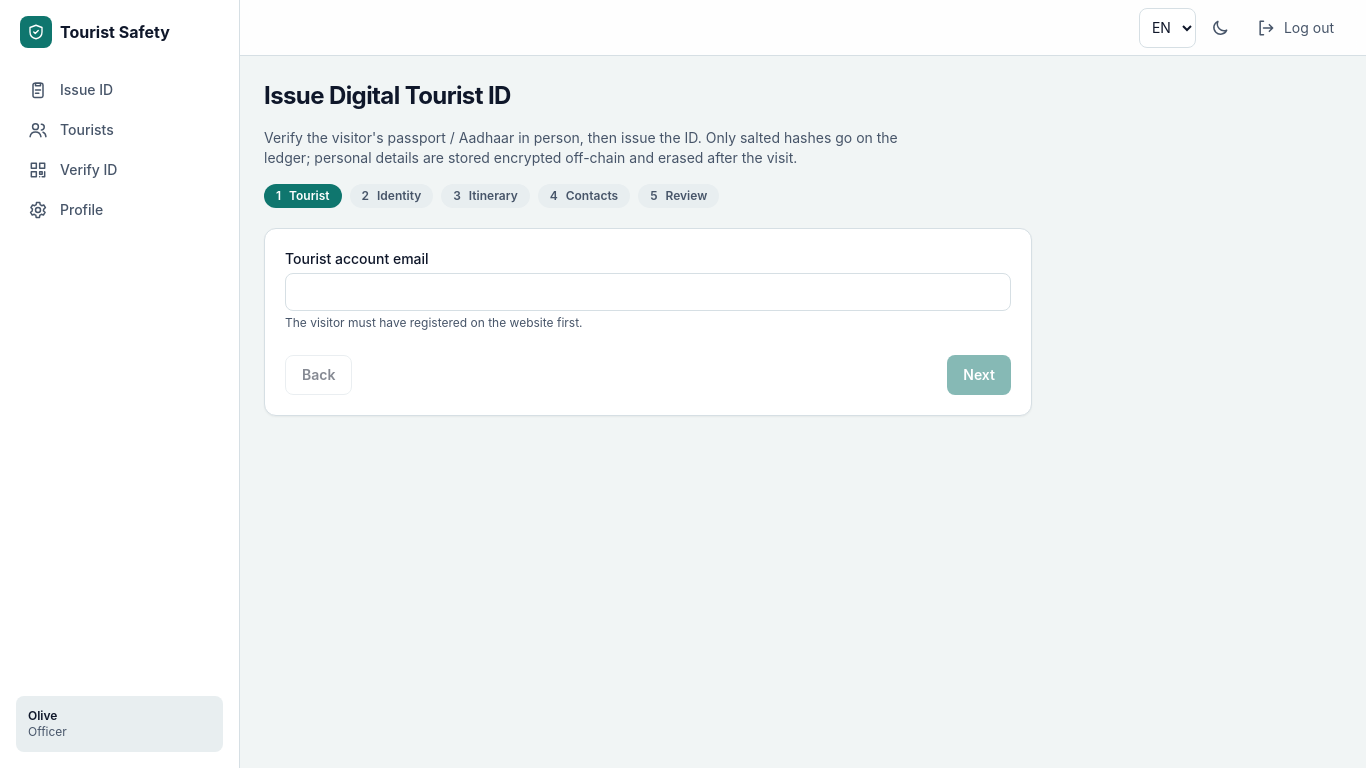
Next is disabled until each step is valid; Back keeps what was typed
Check: the button "Next" is disabled, box top-left (947, 355), bottom-right (1011, 395)
Type "t@x.com" into the field labelled "Tourist account email" at (648, 292), box top-left (285, 273), bottom-right (1011, 311)
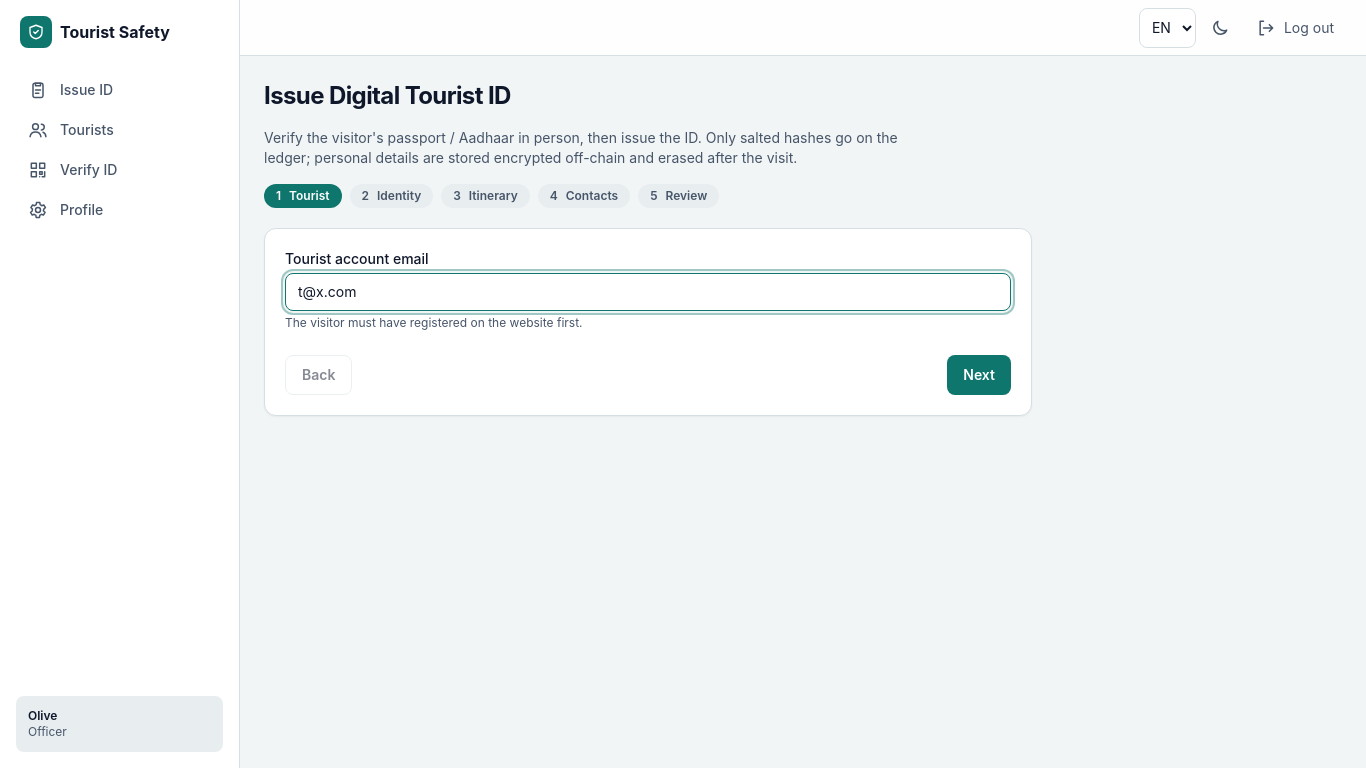
Click the button "Next" at (979, 375), box top-left (947, 355), bottom-right (1011, 395)
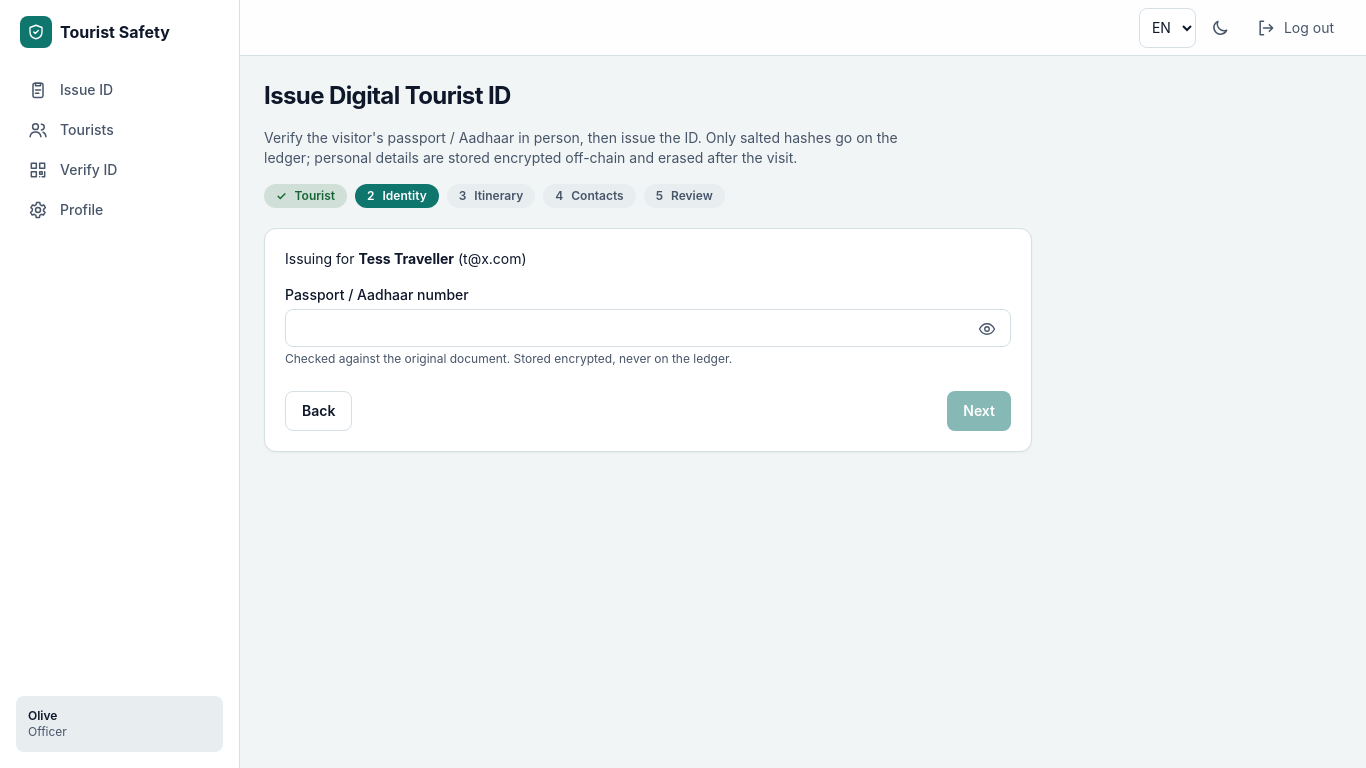
Check: the button "Next" is disabled, box top-left (947, 391), bottom-right (1011, 431)
Type "AB12" into the password field labelled "Passport / Aadhaar number" at (648, 328), box top-left (285, 309), bottom-right (1011, 347)
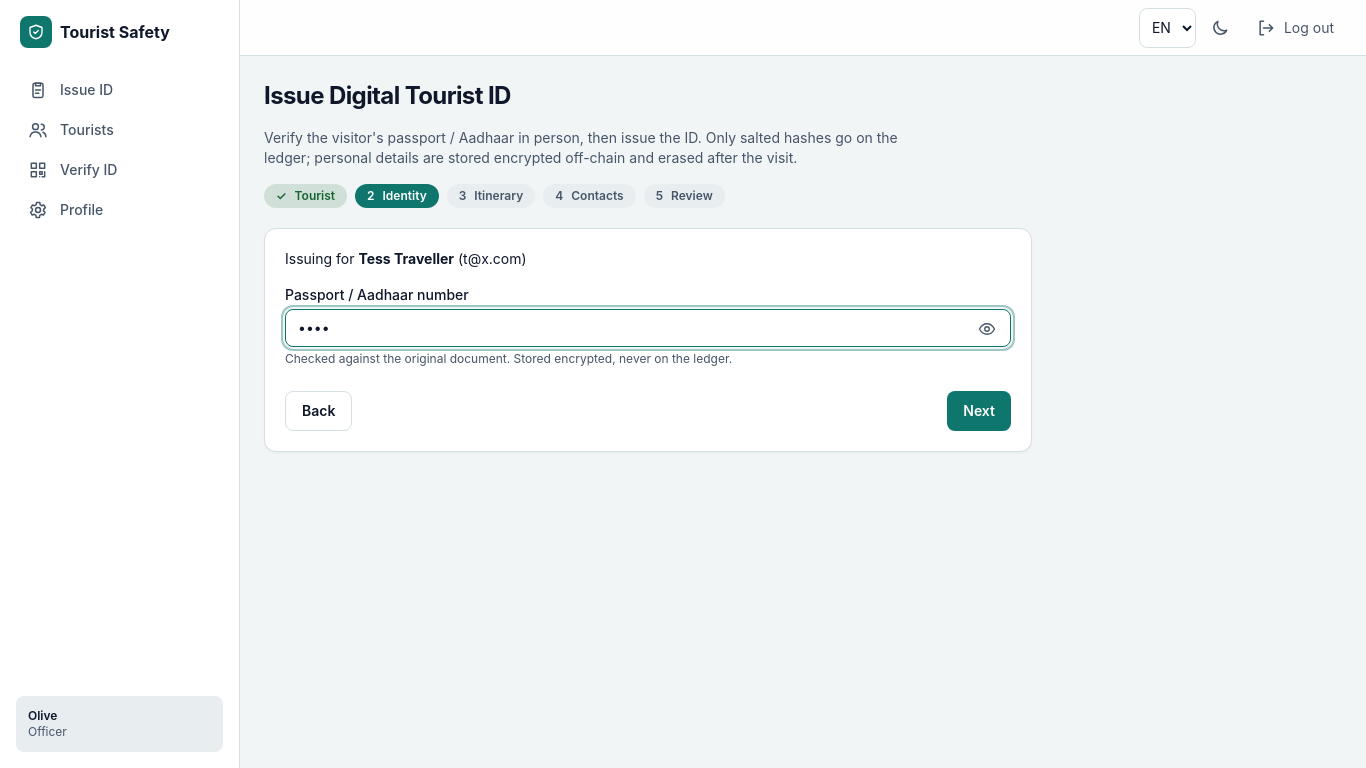
Check: the button "Next" is enabled, box top-left (947, 391), bottom-right (1011, 431)
Click the button "Back" at (319, 411), box top-left (285, 391), bottom-right (352, 431)
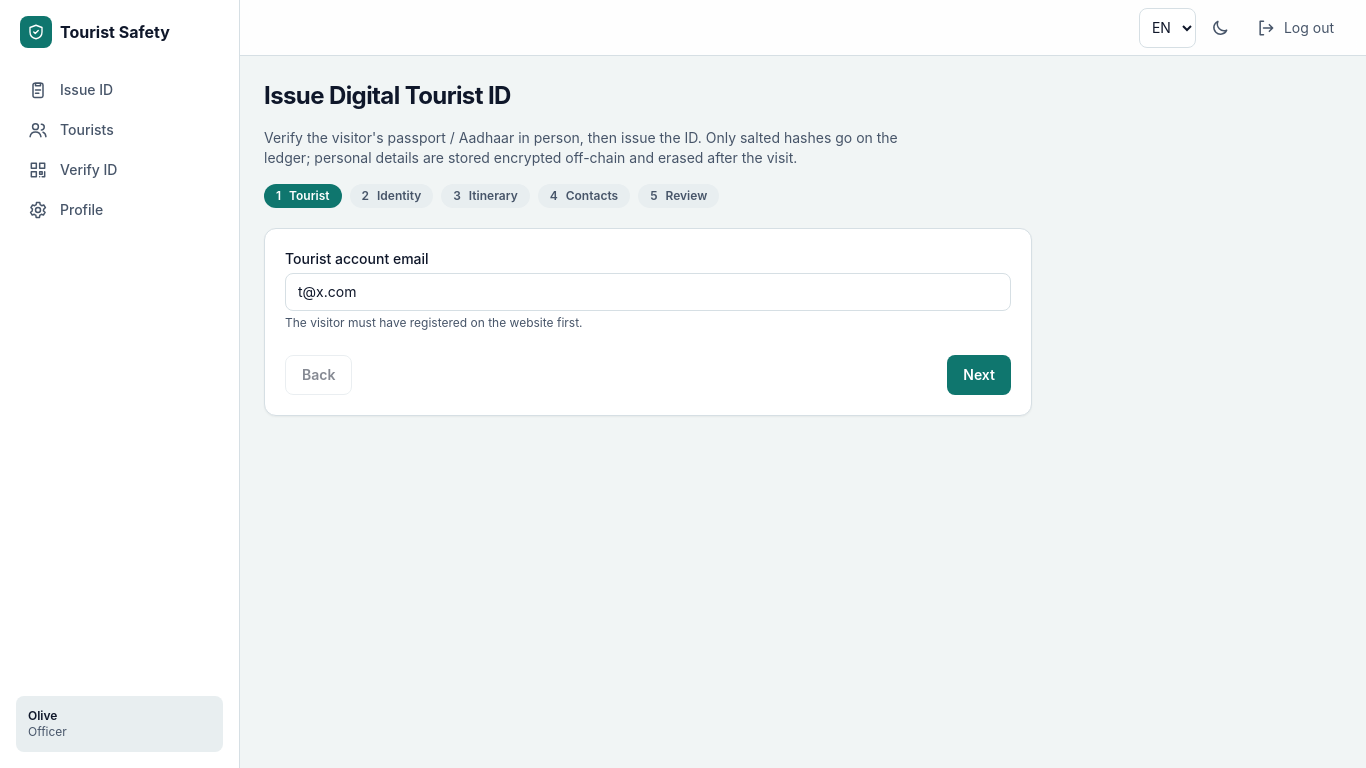
Check: the field labelled "Tourist account email" holds "t@x.com", box top-left (285, 273), bottom-right (1011, 311)
